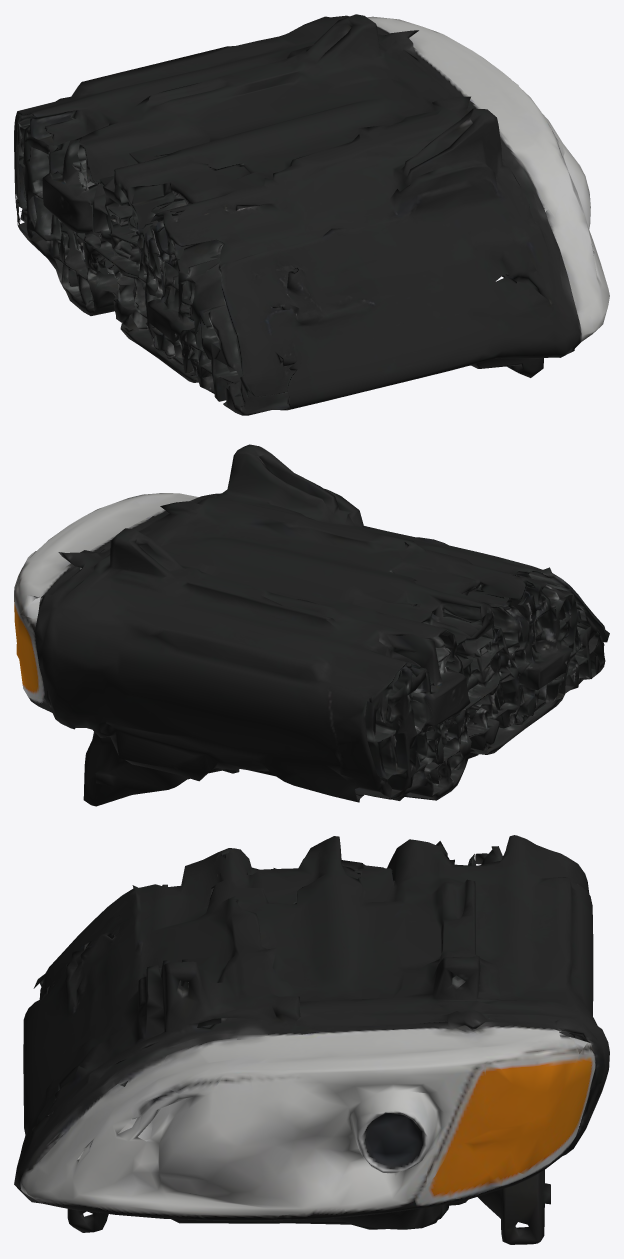
Rendered from drago_headlight.glb.
3 views of the same model, one above another, from view 1: azimuth 30°, elevation 25°; view 2: azimuth 150°, elevation 25°; view 3: azimuth 270°, elevation 25° (orthographic). The views are drawn at different scales.
Parts seen in each view (by area): view 1: tripo_node_e571520c-e3c9-4228-b89d-b344024b6936; view 2: tripo_node_e571520c-e3c9-4228-b89d-b344024b6936; view 3: tripo_node_e571520c-e3c9-4228-b89d-b344024b6936.
Boxes of the visible parts, left/top/right/bottom form: tripo_node_e571520c-e3c9-4228-b89d-b344024b6936: left=14, top=14, right=609, bottom=415; tripo_node_e571520c-e3c9-4228-b89d-b344024b6936: left=14, top=444, right=609, bottom=806; tripo_node_e571520c-e3c9-4228-b89d-b344024b6936: left=14, top=835, right=609, bottom=1244.
Bounding box in the file's own units: 0.9714 × 0.5232 × 1.
Materials: 1 (1 with a texture image).
